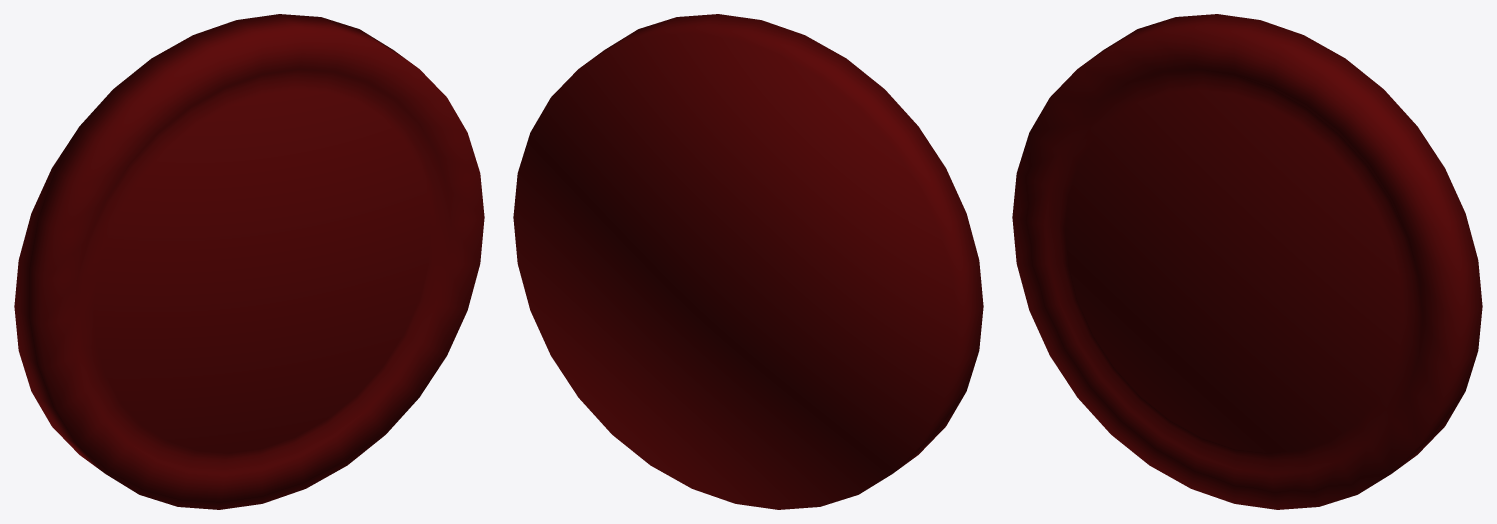
Rendered from puck.obj.
3 views of the same model, side by side, from view 1: azimuth 30°, elevation 25°; view 2: azimuth 150°, elevation 25°; view 3: azimuth 330°, elevation 25° (orthographic).
Visible parts, largest first — view 1: Cylinder_Cylinder.001; view 2: Cylinder_Cylinder.001; view 3: Cylinder_Cylinder.001.
Part boxes in pixels (bbox=[...]): Cylinder_Cylinder.001: bbox=[14, 14, 484, 509]; Cylinder_Cylinder.001: bbox=[513, 14, 983, 509]; Cylinder_Cylinder.001: bbox=[1012, 14, 1482, 509].
Bounding box in the file's own units: 0.39 × 0.39 × 0.04.
